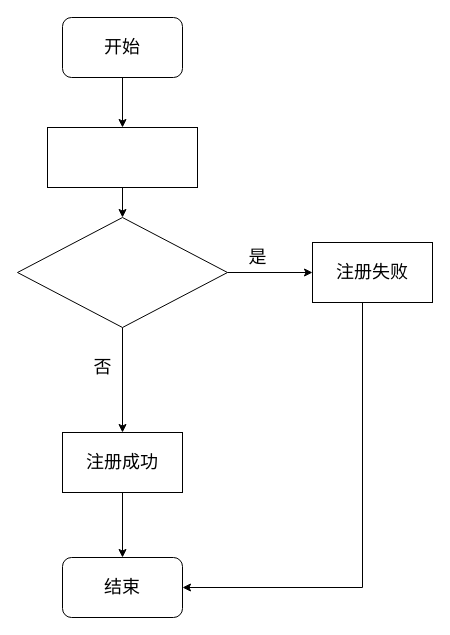
Some shapes in this 450 by 635 pixel diagram are drawn without their labels. Each missing label, with the centre of its shape:
获取账号、密码: point (122, 157)
账号是否已存在？: point (122, 272)
